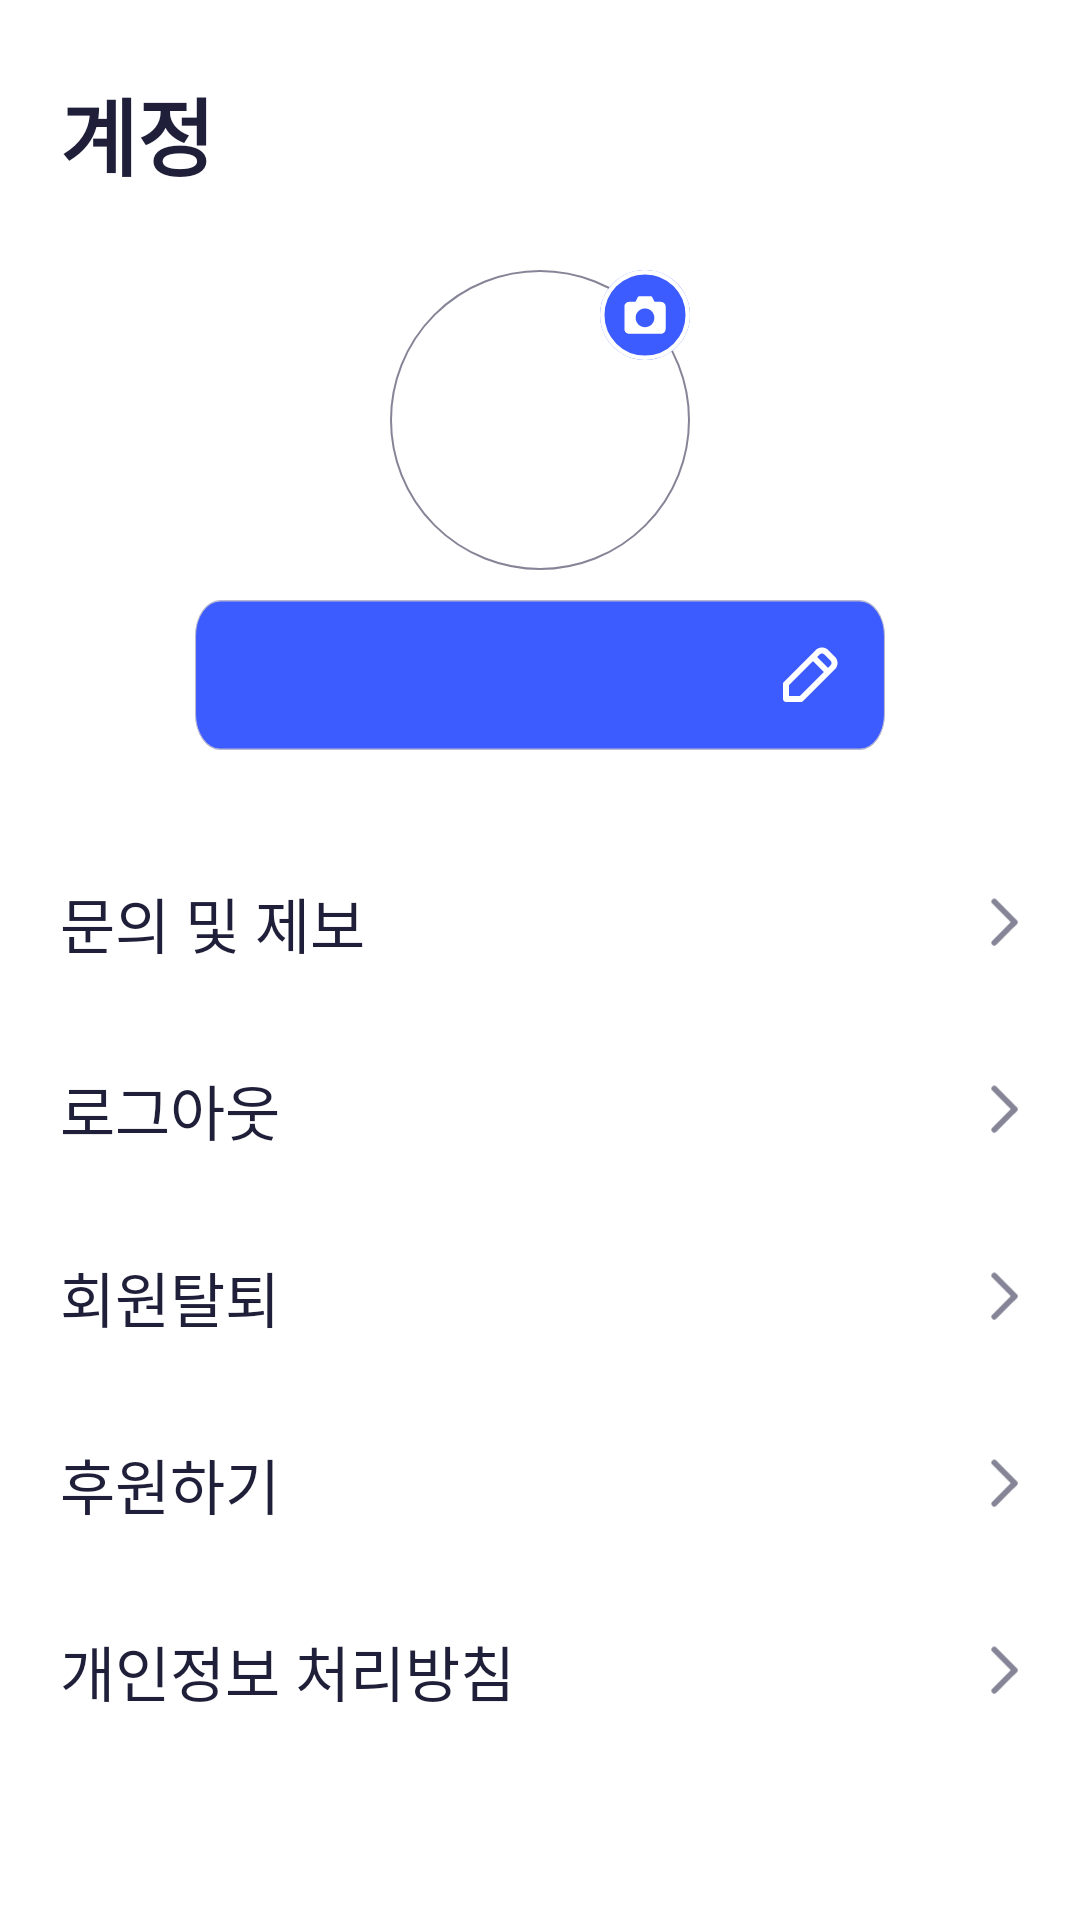

Icons on this 1080 × 1920 Android screen, each with its box as (x1,y1,x2,y2):
camera: (600,270,690,360)
edit: (783,647,838,702)
right arrow: (991,898,1018,946), (991,1085,1018,1133), (991,1272,1018,1320), (991,1459,1018,1507), (991,1646,1018,1694)
